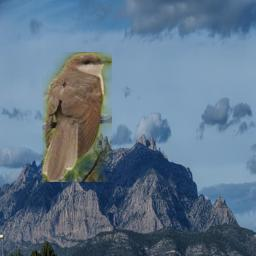Cuckoo: (42, 52, 112, 182)
